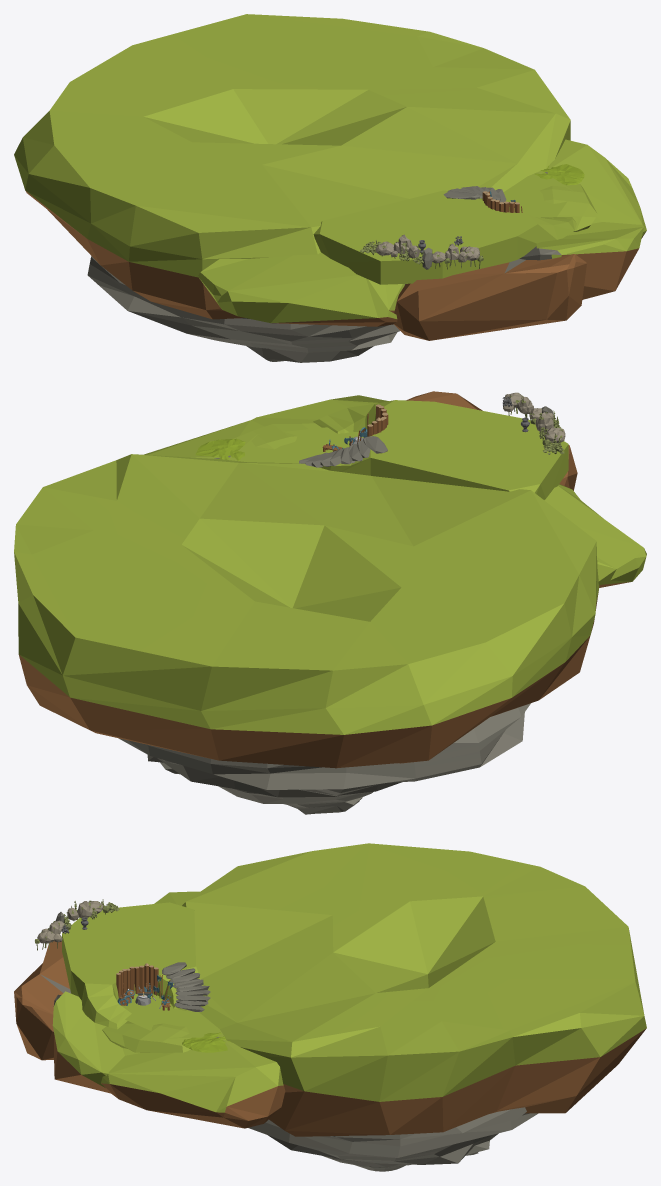
File: fire-candle.glb
3 views of the same model, one above another, from view 1: azimuth 30°, elevation 25°; view 2: azimuth 150°, elevation 25°; view 3: azimuth 270°, elevation 25° (orthographic). The views are drawn at different scales.
Visible parts, largest first — view 1: Object3068986, SM_Env_Planter_Preset_02, Box17641, Box17084, Object3068987, Object3068988, Box17640, Plane698, Box17709; view 2: Object3068986, SM_Env_Planter_Preset_02, Object3068987, Object3068988, Box17084, Box17640, Box17709, Plane698, Box17641; view 3: Object3068986, Object3068988, SM_Env_Planter_Preset_02, Object3068987, Box17640, Box17641, Plane698, Box17709, Cylinder2031.
Boxes of the visible parts, x1=… form: Object3068986: x1=14, y1=14, x2=570, y2=319; SM_Env_Planter_Preset_02: x1=313, y1=190, x2=577, y2=284; Box17641: x1=394, y1=254, x2=586, y2=340; Box17084: x1=198, y1=252, x2=405, y2=326; Object3068987: x1=87, y1=256, x2=399, y2=362; Object3068988: x1=503, y1=139, x2=646, y2=238; Box17640: x1=519, y1=222, x2=643, y2=299; Plane698: x1=540, y1=184, x2=597, y2=231; Box17709: x1=443, y1=186, x2=506, y2=202; Object3068986: x1=14, y1=454, x2=599, y2=768; SM_Env_Planter_Preset_02: x1=313, y1=392, x2=568, y2=499; Object3068987: x1=119, y1=703, x2=530, y2=814; Object3068988: x1=144, y1=420, x2=363, y2=463; Box17084: x1=544, y1=484, x2=646, y2=587; Box17640: x1=251, y1=395, x2=388, y2=426; Box17709: x1=299, y1=436, x2=387, y2=467; Plane698: x1=233, y1=423, x2=321, y2=449; Box17641: x1=406, y1=391, x2=577, y2=490; Object3068986: x1=182, y1=843, x2=646, y2=1136; Object3068988: x1=101, y1=994, x2=285, y2=1128; SM_Env_Planter_Preset_02: x1=35, y1=899, x2=206, y2=1029; Object3068987: x1=248, y1=1107, x2=538, y2=1171; Box17640: x1=52, y1=991, x2=124, y2=1093; Box17641: x1=14, y1=941, x2=70, y2=1060; Plane698: x1=102, y1=1021, x2=191, y2=1053; Box17709: x1=162, y1=962, x2=210, y2=1011; Cylinder2031: x1=116, y1=963, x2=158, y2=997.
Size of the model in its own units: 42.17 by 20.84 by 50.98.
